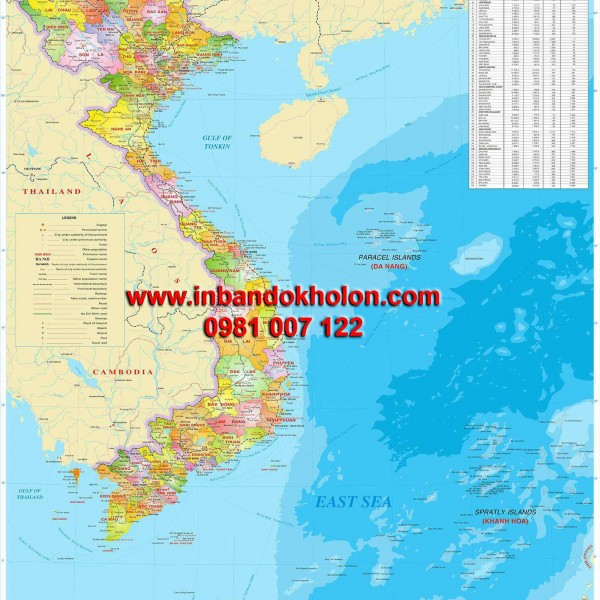Island: (388, 411, 593, 584), (336, 189, 493, 286)
